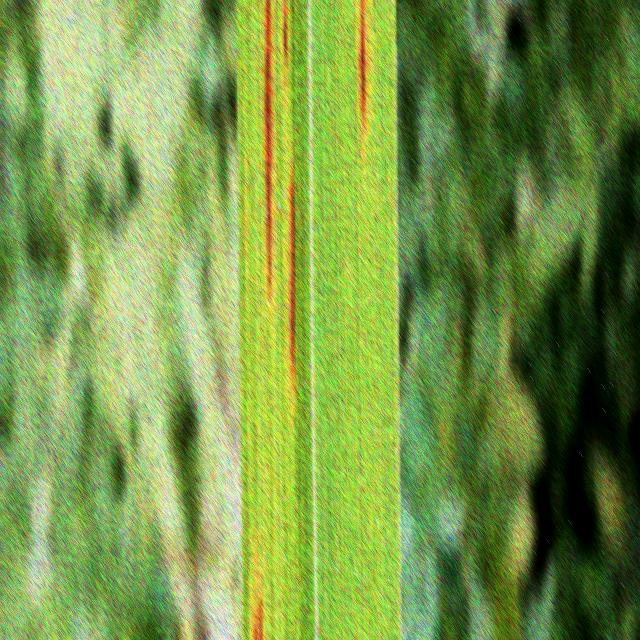NBS: (263, 0, 272, 306), (288, 161, 295, 408), (358, 0, 366, 140), (250, 547, 262, 640), (282, 0, 288, 103), (243, 185, 248, 277)
